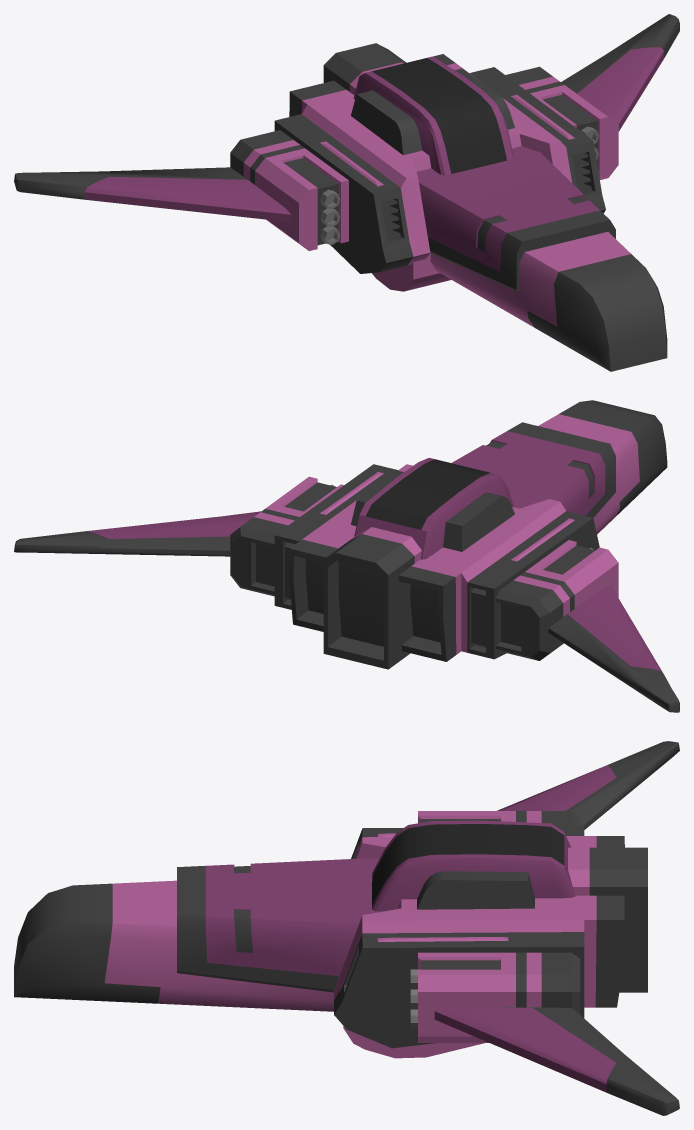
The model's file is Spaceship_03.glb.
3 renders of one model, top to bottom at view 1: azimuth 30°, elevation 25°; view 2: azimuth 150°, elevation 25°; view 3: azimuth 270°, elevation 25°, orthographic. The views are drawn at different scales.
Parts seen in each view (by area): view 1: Spaceship_FernandoTheFlamingo; view 2: Spaceship_FernandoTheFlamingo; view 3: Spaceship_FernandoTheFlamingo.
Boxes of the visible parts, <box> form: Spaceship_FernandoTheFlamingo: <box>14,14,679,371</box>; Spaceship_FernandoTheFlamingo: <box>14,400,679,712</box>; Spaceship_FernandoTheFlamingo: <box>14,741,679,1115</box>.
Size of the model in its own units: 11.14 by 2.53 by 8.66.
Materials: 1 (1 with a texture image).
